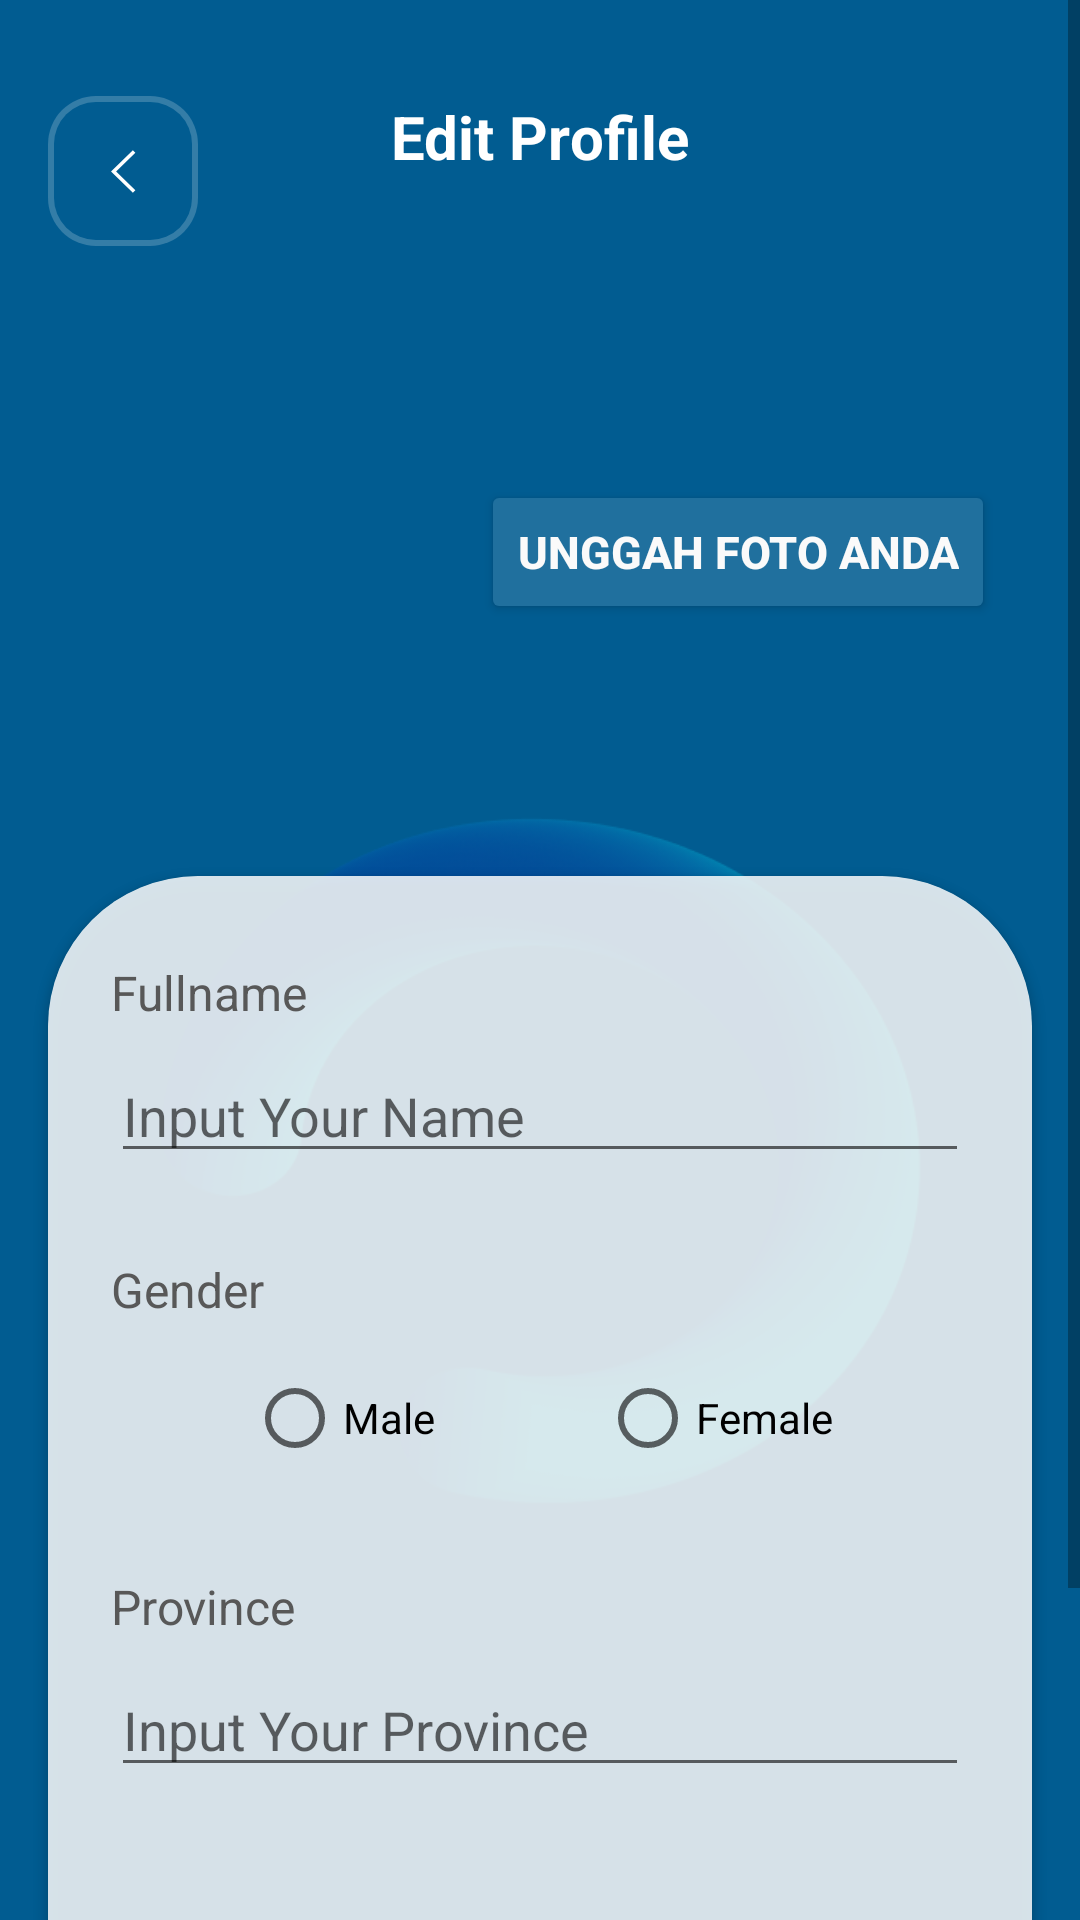

Icons on this 1080×1920 Android screen, each with the point to tap as [x,y]:
back: [123,171]
